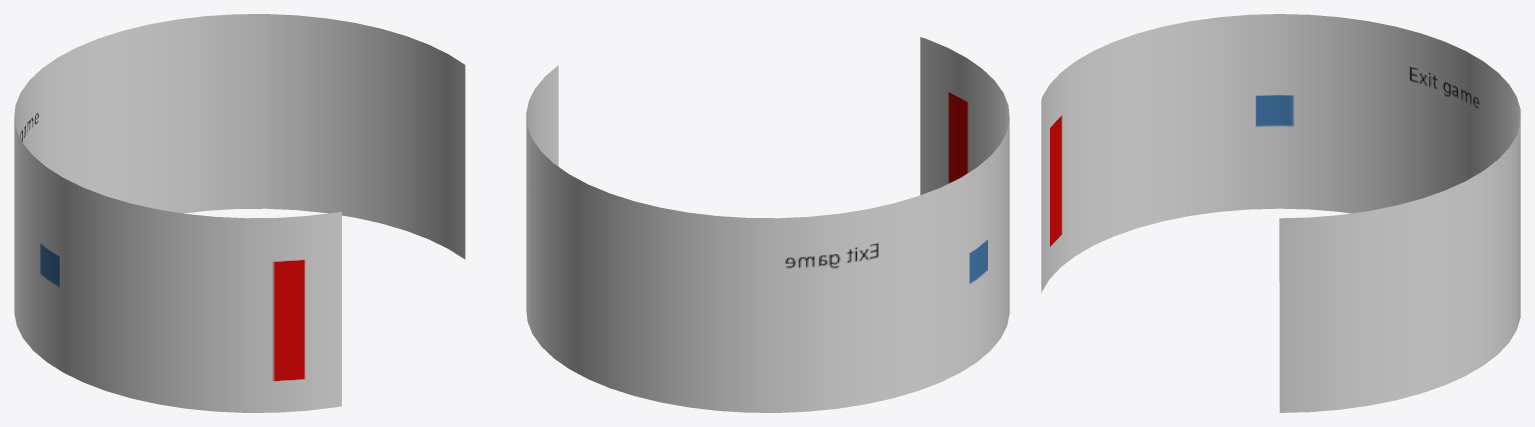
File: curvedUI1.fbx
3 views of the same model, side by side, from view 1: azimuth 30°, elevation 25°; view 2: azimuth 150°, elevation 25°; view 3: azimuth 270°, elevation 25° (orthographic).
Visible parts, largest first — view 1: pPipe1; view 2: pPipe1; view 3: pPipe1.
Boxes of the visible parts, x1=… form: pPipe1: x1=14, y1=14, x2=465, y2=412; pPipe1: x1=526, y1=37, x2=1009, y2=412; pPipe1: x1=1041, y1=14, x2=1520, y2=412.
Size of the model in its own units: 9 by 4 by 8.98.
Materials: 1 (1 with a texture image).
